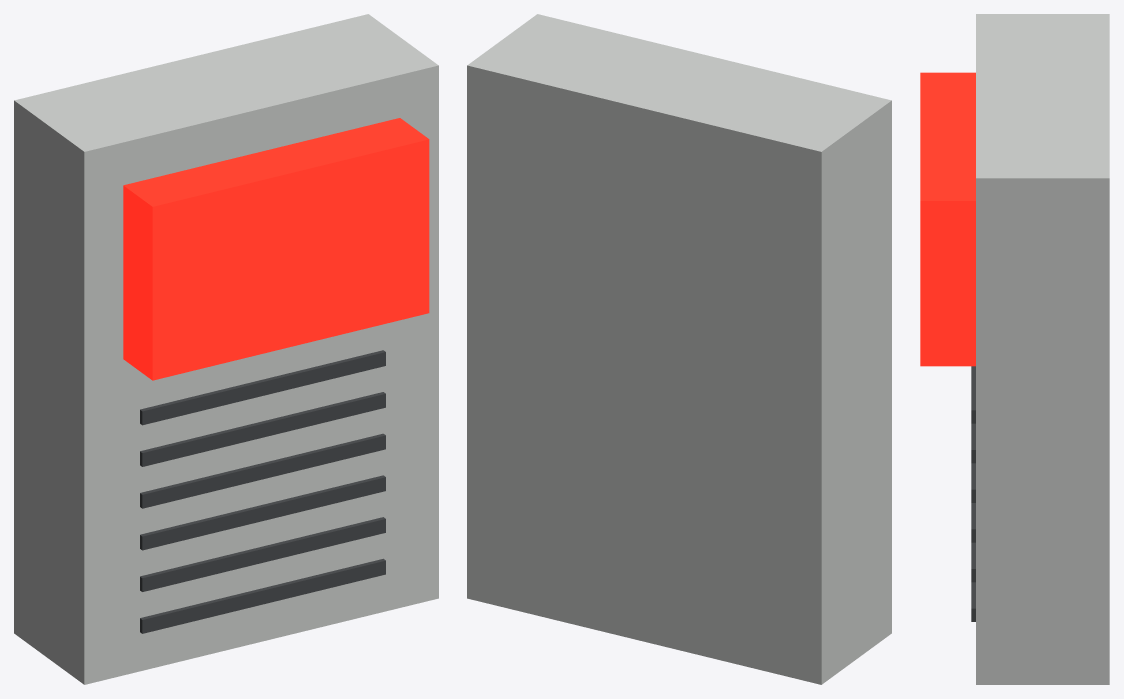
The model's file is 13_wall_emergency_alarm.glb.
The picture shows the model from 3 angles, left to right: view 1: azimuth 30°, elevation 25°; view 2: azimuth 150°, elevation 25°; view 3: azimuth 270°, elevation 25°; orthographic projection. The views are drawn at different scales.
Visible parts, largest first — view 1: Alarm_body, Alarm_Lens, Speaker_slot_00, Speaker_slot_01, Speaker_slot_02, Speaker_slot_03, Speaker_slot_05, Speaker_slot_04; view 2: Alarm_body; view 3: Alarm_body, Alarm_Lens.
Part boxes in pixels (<box>): Alarm_body: <box>14,14,438,684</box>; Alarm_Lens: <box>123,118,429,380</box>; Speaker_slot_00: <box>140,350,385,425</box>; Speaker_slot_01: <box>140,392,385,466</box>; Speaker_slot_02: <box>140,433,385,508</box>; Speaker_slot_03: <box>140,475,385,550</box>; Speaker_slot_05: <box>140,558,385,633</box>; Speaker_slot_04: <box>140,517,385,591</box>; Alarm_body: <box>467,14,891,684</box>; Alarm_body: <box>976,14,1109,684</box>; Alarm_Lens: <box>920,72,975,366</box>.
Bounding box in the file's own units: 0.16 × 0.23 × 0.078.
